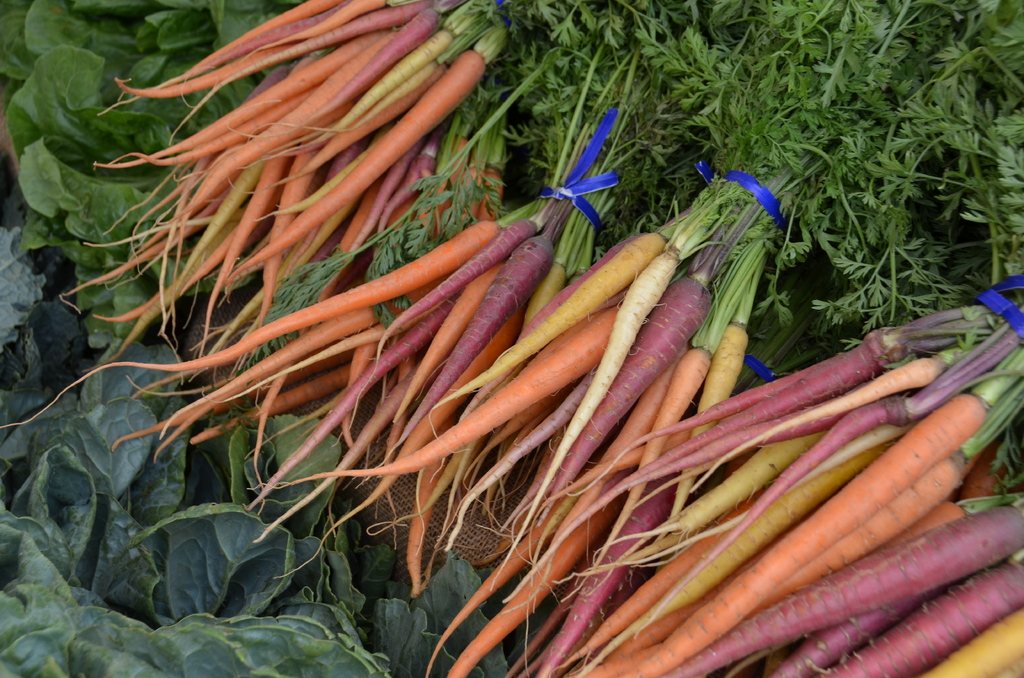Carrot: (0, 0, 1023, 677), (0, 215, 504, 432)
